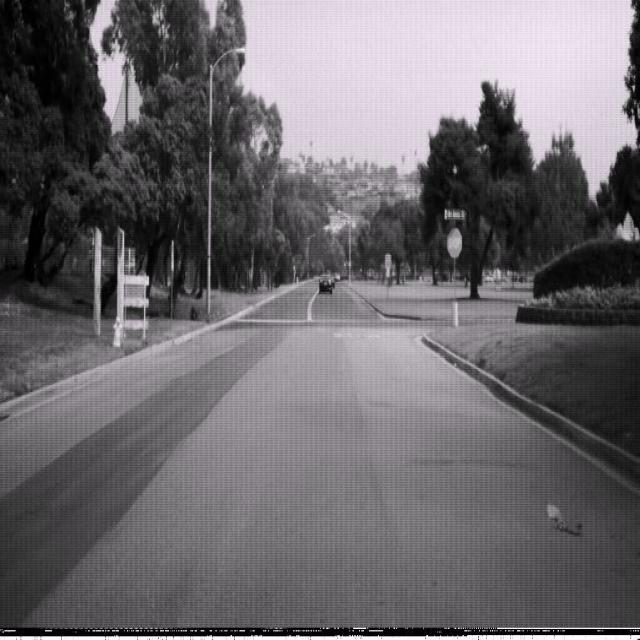stop_sign: (447, 227, 462, 260)
